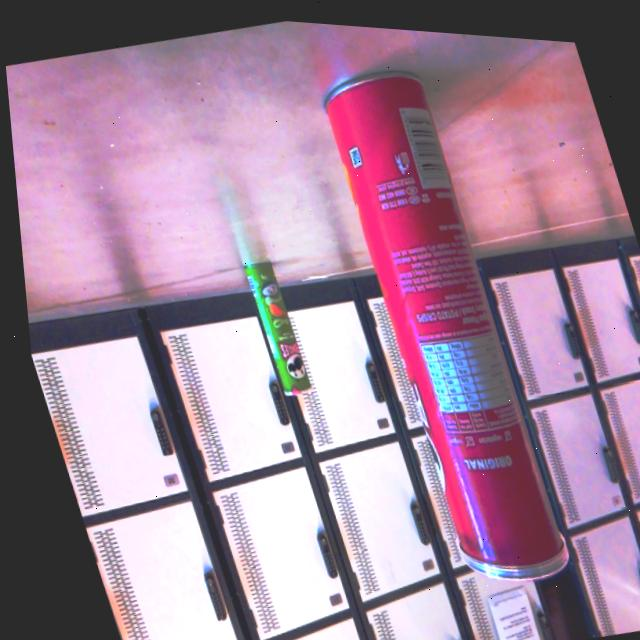greenpringles: (221, 243, 325, 407)
redpringles: (282, 31, 585, 628)
